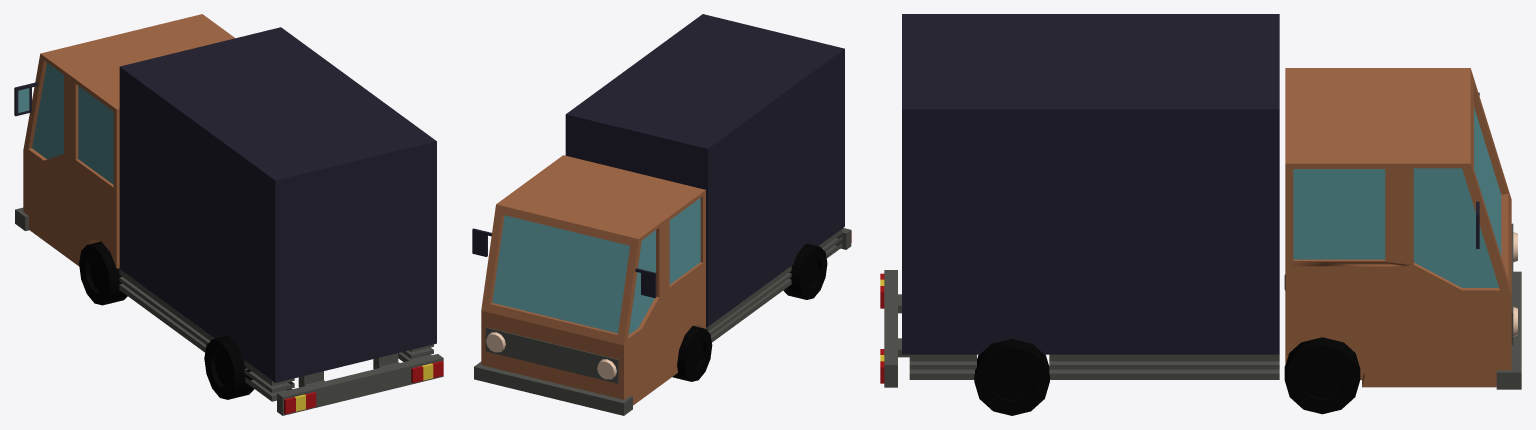
Rendered from truck.fbx.
3 renders of one model, left to right at view 1: azimuth 30°, elevation 25°; view 2: azimuth 150°, elevation 25°; view 3: azimuth 270°, elevation 25°, orthographic. The views are drawn at different scales.
Visible parts, largest first — view 1: truck; view 2: truck; view 3: truck.
Part boxes in pixels (x1=…): truck: x1=14, y1=14, x2=443, y2=415; truck: x1=472, y1=14, x2=851, y2=415; truck: x1=880, y1=14, x2=1521, y2=415.
Size of the model in its own units: 282 by 322 by 623.
